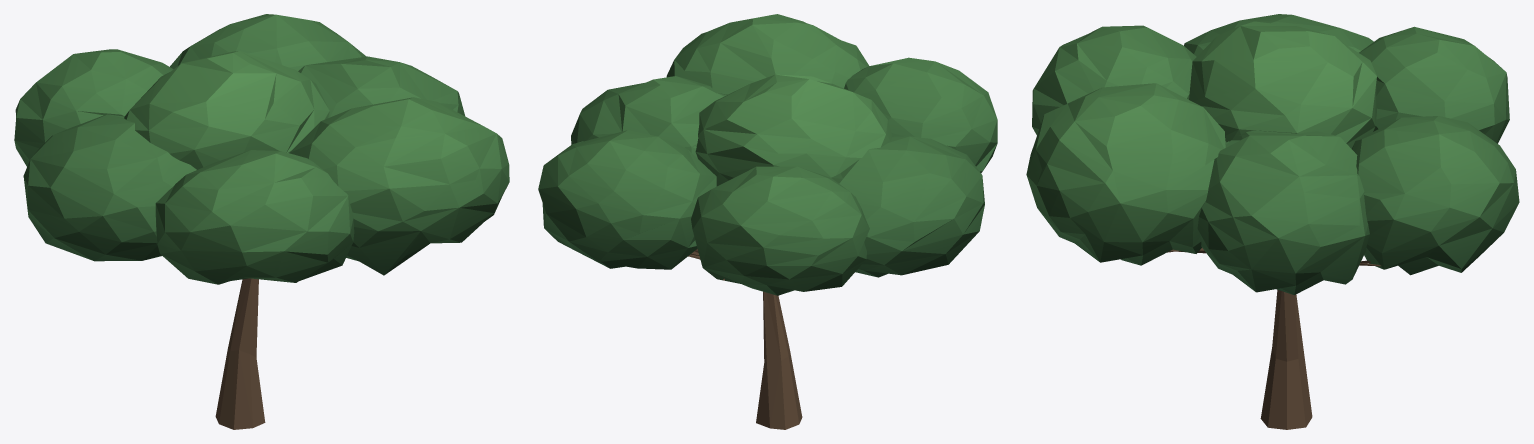
Rendered from lp_tree_03.glb.
3 views of the same model, side by side, from view 1: azimuth 30°, elevation 25°; view 2: azimuth 150°, elevation 25°; view 3: azimuth 270°, elevation 25° (orthographic). The views are drawn at different scales.
Visible parts, largest first — view 1: dragon_tree; view 2: dragon_tree; view 3: dragon_tree.
Boxes of the visible parts, x1,y1,x2,y2 form: dragon_tree: (14, 14, 509, 429); dragon_tree: (538, 14, 997, 429); dragon_tree: (1026, 14, 1519, 429).
Bounding box in the file's own units: 9.48 × 7.79 × 9.22.
